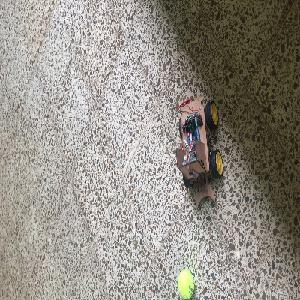Ball: (178, 271, 194, 298)
Robot: (176, 96, 223, 202)
